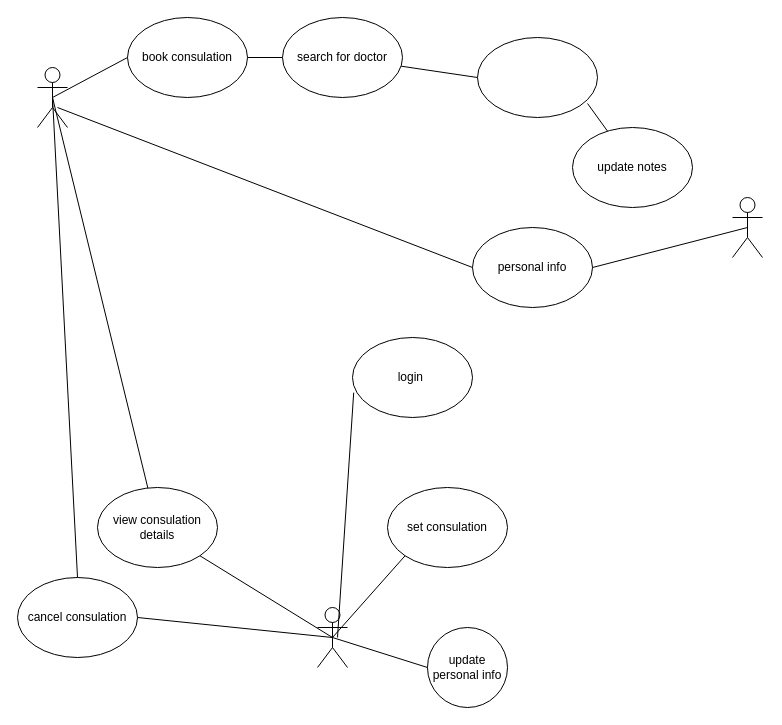
This 782x725 diagram has some shape labels left out. The shapes that lost their labels are listed below. From the top down, each one's centre as x and y in pixels, then its label:
At (52,97): "Patient".
At (537,77): "View Schedule".
At (747,227): "Doctor".
At (332,637): "System".
